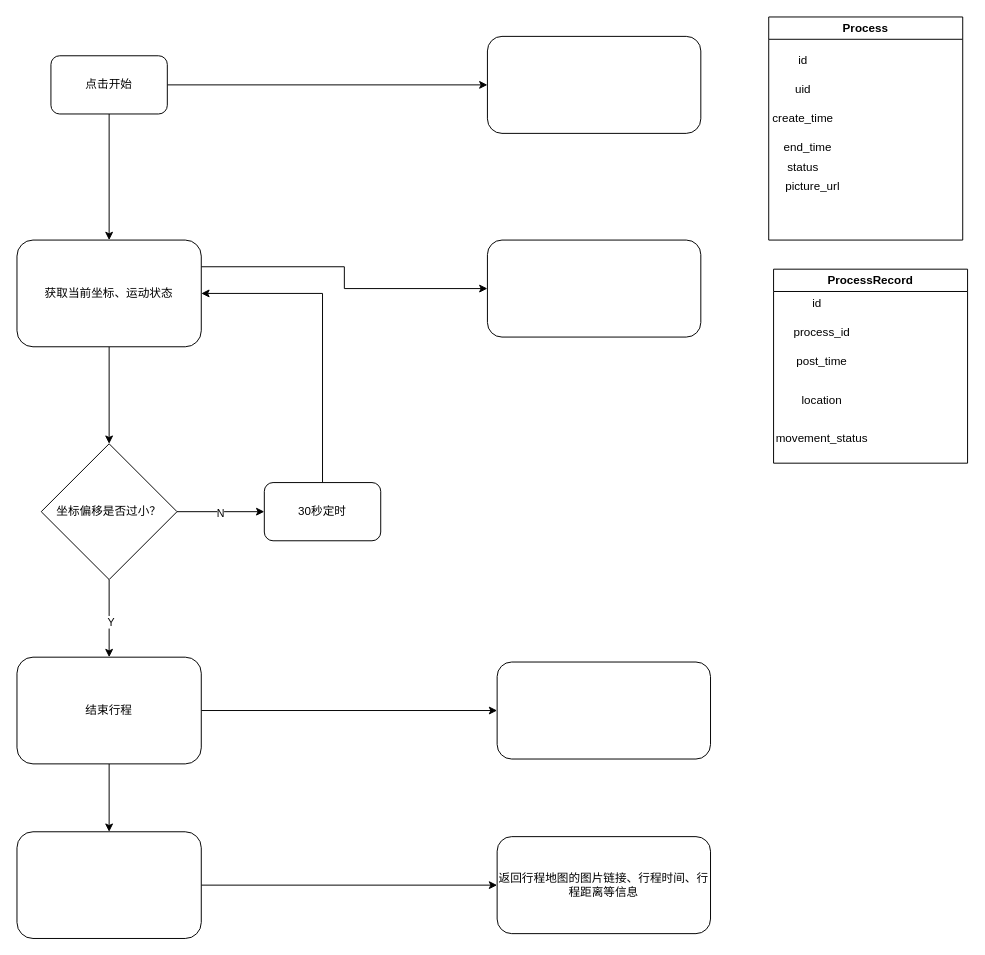
Image size: 985x955. Some labels were removed from this diagram. The shapes that lost their labels are listed below. From the top down, each one's centre as x and y in pixels, then its label:
At (x=593, y=84): "创建一个行程 （uid, process_id, create_time)".
At (x=593, y=288): "记录相关信息 （process_id, post_time, location, movement_status)".
At (x=603, y=710): "结束行程 渲染生成行程地图".
At (x=108, y=884): "获取行程结果".
